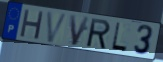3: (132, 24, 155, 57)
H: (19, 8, 46, 41)
L: (110, 21, 129, 54)
R: (86, 17, 112, 51)
V: (46, 10, 70, 44), (68, 14, 91, 48)
